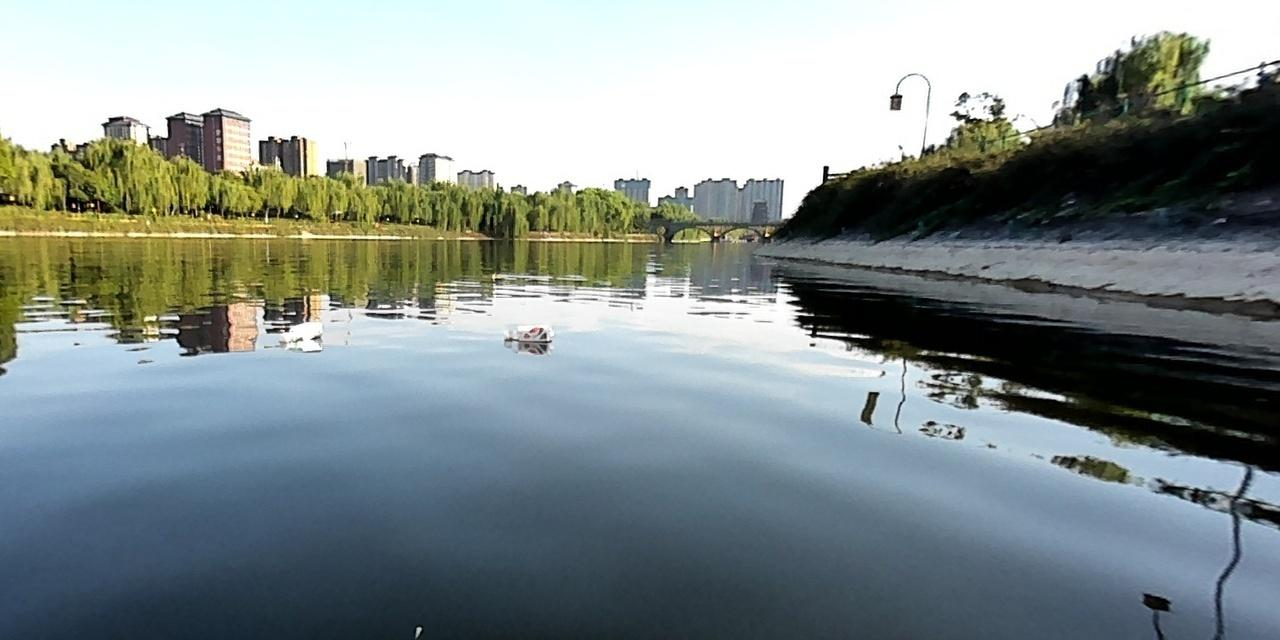bottle: (501, 317, 552, 345), (277, 319, 326, 344)
